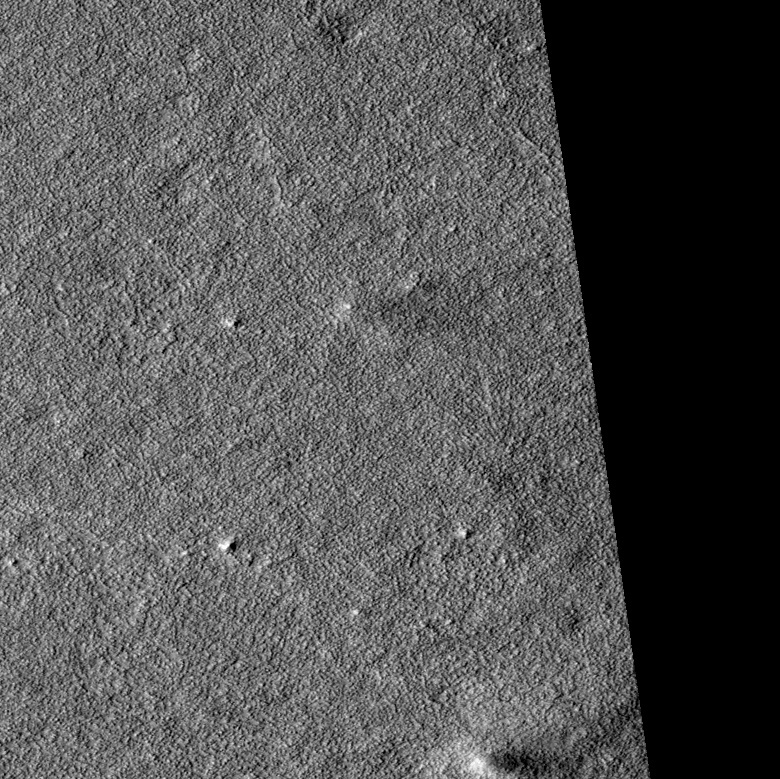dust_devil: (466, 747, 589, 779)
